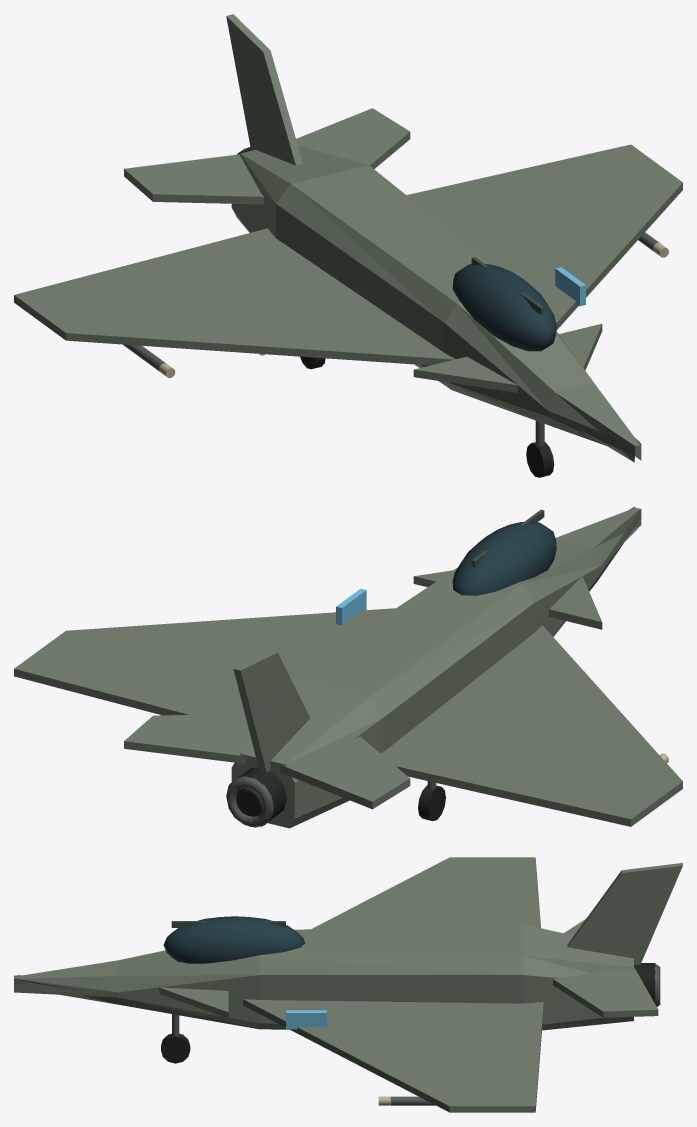
File: fighter.glb
3 views of the same model, one above another, from view 1: azimuth 30°, elevation 25°; view 2: azimuth 150°, elevation 25°; view 3: azimuth 270°, elevation 25° (orthographic). The views are drawn at different scales.
Parts seen in each view (by area): view 1: armor, glass, equipment (×2), marking; view 2: armor, glass, equipment (×2), marking; view 3: armor, glass, equipment (×2), marking.
Part boxes in pixels (x1,y1,x2,y2): armor: (14,14,682,462); glass: (452,264,556,351); equipment (×2): (123,147,668,477); marking: (555,267,585,306); armor: (14,506,682,828); glass: (452,522,556,595); equipment (×2): (226,509,668,827); marking: (336,588,366,625); armor: (14,857,682,1112); glass: (163,916,305,963); equipment (×2): (161,921,660,1105); marking: (286,1010,326,1029).
Bounding box in the file's own units: 7.2 × 2.64 × 8.17.
